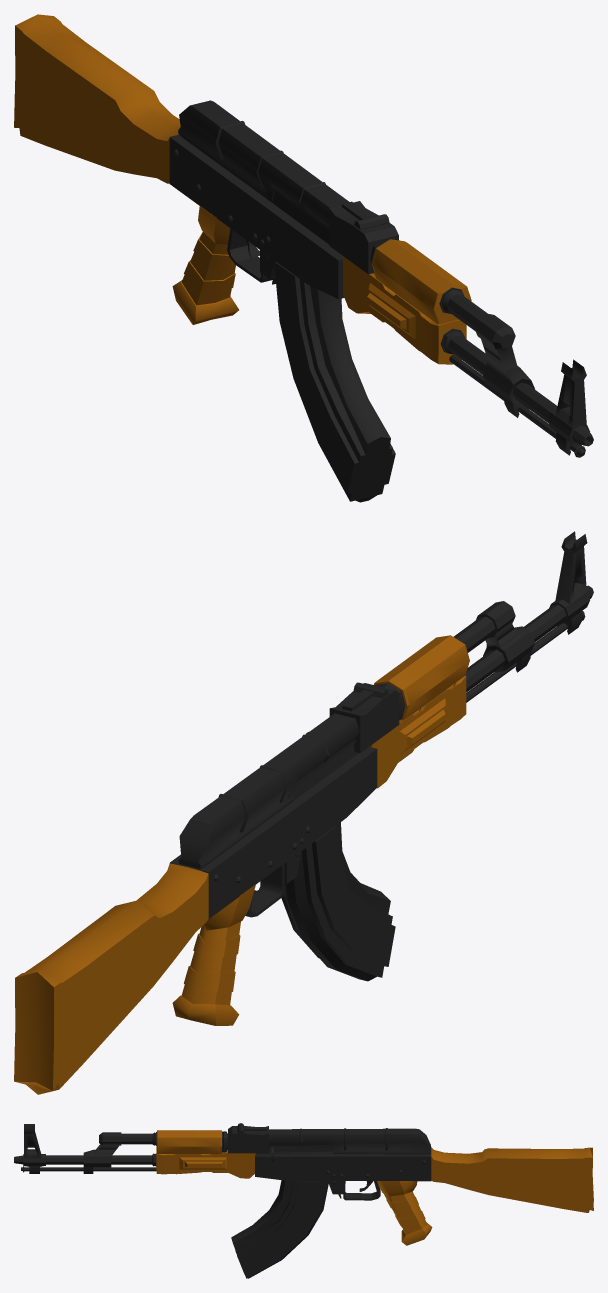
The model's file is Ak47_GUN.glb.
The picture shows the model from 3 angles, top to bottom: view 1: azimuth 30°, elevation 25°; view 2: azimuth 150°, elevation 25°; view 3: azimuth 270°, elevation 25°; orthographic projection. The views are drawn at different scales.
Parts seen in each view (by area): view 1: sholder, pCube3, pCube5, polySurface1, polySurface5, handGrip, frontGrip, woodPartFront, pCube12, pCylinder3, pCube8; view 2: sholder, pCube3, pCube5, polySurface5, polySurface1, handGrip, woodPartFront, frontGrip, pCube12, pCube8, pCylinder3; view 3: sholder, pCube5, pCube3, polySurface5, polySurface1, frontGrip, handGrip, woodPartFront, pCube12, pCylinder3, pCube8.
Part boxes in pixels (left/top/right/bottom): sholder: left=14, top=14, right=180, bottom=183; pCube3: left=274, top=260, right=395, bottom=502; pCube5: left=169, top=134, right=344, bottom=299; polySurface1: left=439, top=287, right=593, bottom=455; polySurface5: left=178, top=100, right=349, bottom=231; handGrip: left=172, top=206, right=238, bottom=324; frontGrip: left=342, top=256, right=466, bottom=364; woodPartFront: left=371, top=239, right=471, bottom=324; pCube12: left=329, top=201, right=398, bottom=274; pCylinder3: left=449, top=355, right=585, bottom=457; pCube8: left=227, top=228, right=272, bottom=282; sholder: left=14, top=863, right=208, bottom=1094; pCube3: left=281, top=822, right=395, bottom=981; pCube5: left=170, top=744, right=377, bottom=919; polySurface5: left=178, top=713, right=359, bottom=868; polySurface1: left=453, top=531, right=593, bottom=692; handGrip: left=172, top=884, right=255, bottom=1025; woodPartFront: left=374, top=635, right=469, bottom=720; frontGrip: left=369, top=675, right=466, bottom=788; pCube12: left=329, top=683, right=399, bottom=753; pCube8: left=245, top=864, right=284, bottom=917; pCylinder3: left=466, top=611, right=585, bottom=702; sholder: left=431, top=1147, right=593, bottom=1212; pCube5: left=255, top=1147, right=431, bottom=1181; pCube3: left=231, top=1180, right=328, bottom=1278; polySurface5: left=269, top=1128, right=430, bottom=1154; polySurface1: left=14, top=1124, right=156, bottom=1173; frontGrip: left=156, top=1147, right=255, bottom=1178; handGrip: left=377, top=1181, right=432, bottom=1245; woodPartFront: left=156, top=1130, right=221, bottom=1153; pCube12: left=228, top=1126, right=268, bottom=1153; pCylinder3: left=21, top=1166, right=156, bottom=1172; pCube8: left=343, top=1181, right=380, bottom=1200.
Bounding box in the file's own units: 0.00809 × 0.0371 × 0.1283.
